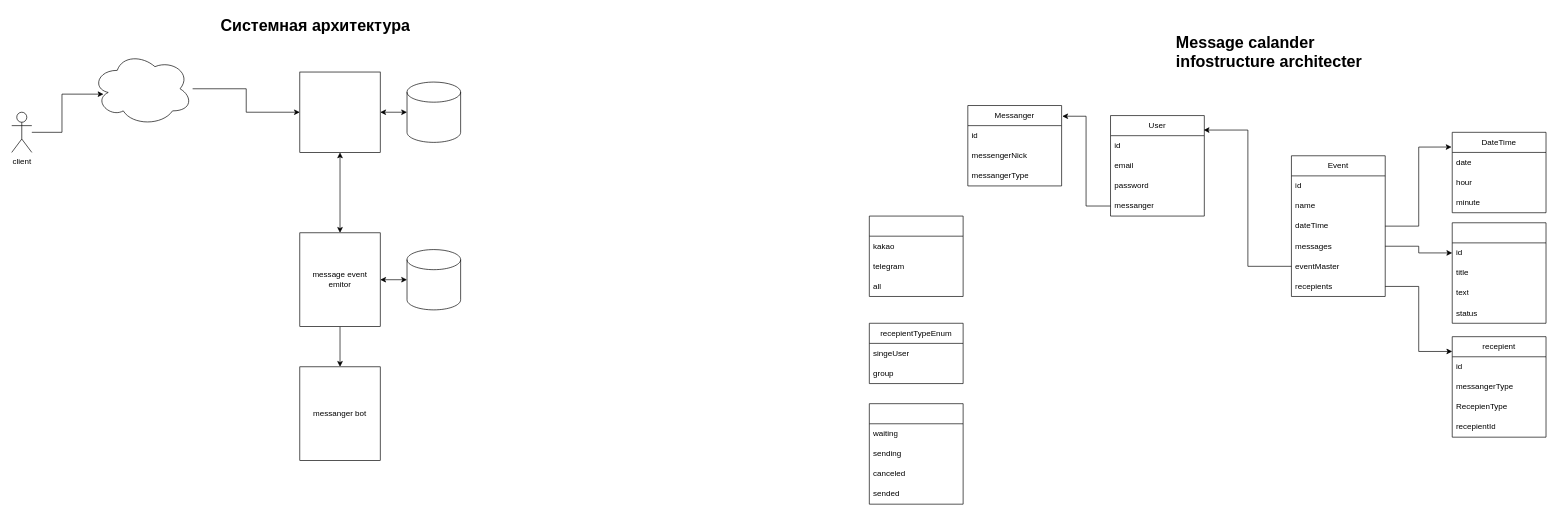
Image size: 1558x516. Some labels were removed from this diagram. The box of each missing label's shape, as (x1, y1, x2, y2) in pixels:
google calender: (91, 51, 193, 126)
Message: (1452, 222, 1546, 323)
message calender: (299, 71, 380, 152)
MessangerTypeEnum: (869, 215, 963, 296)
StatusEnum: (869, 403, 963, 504)
